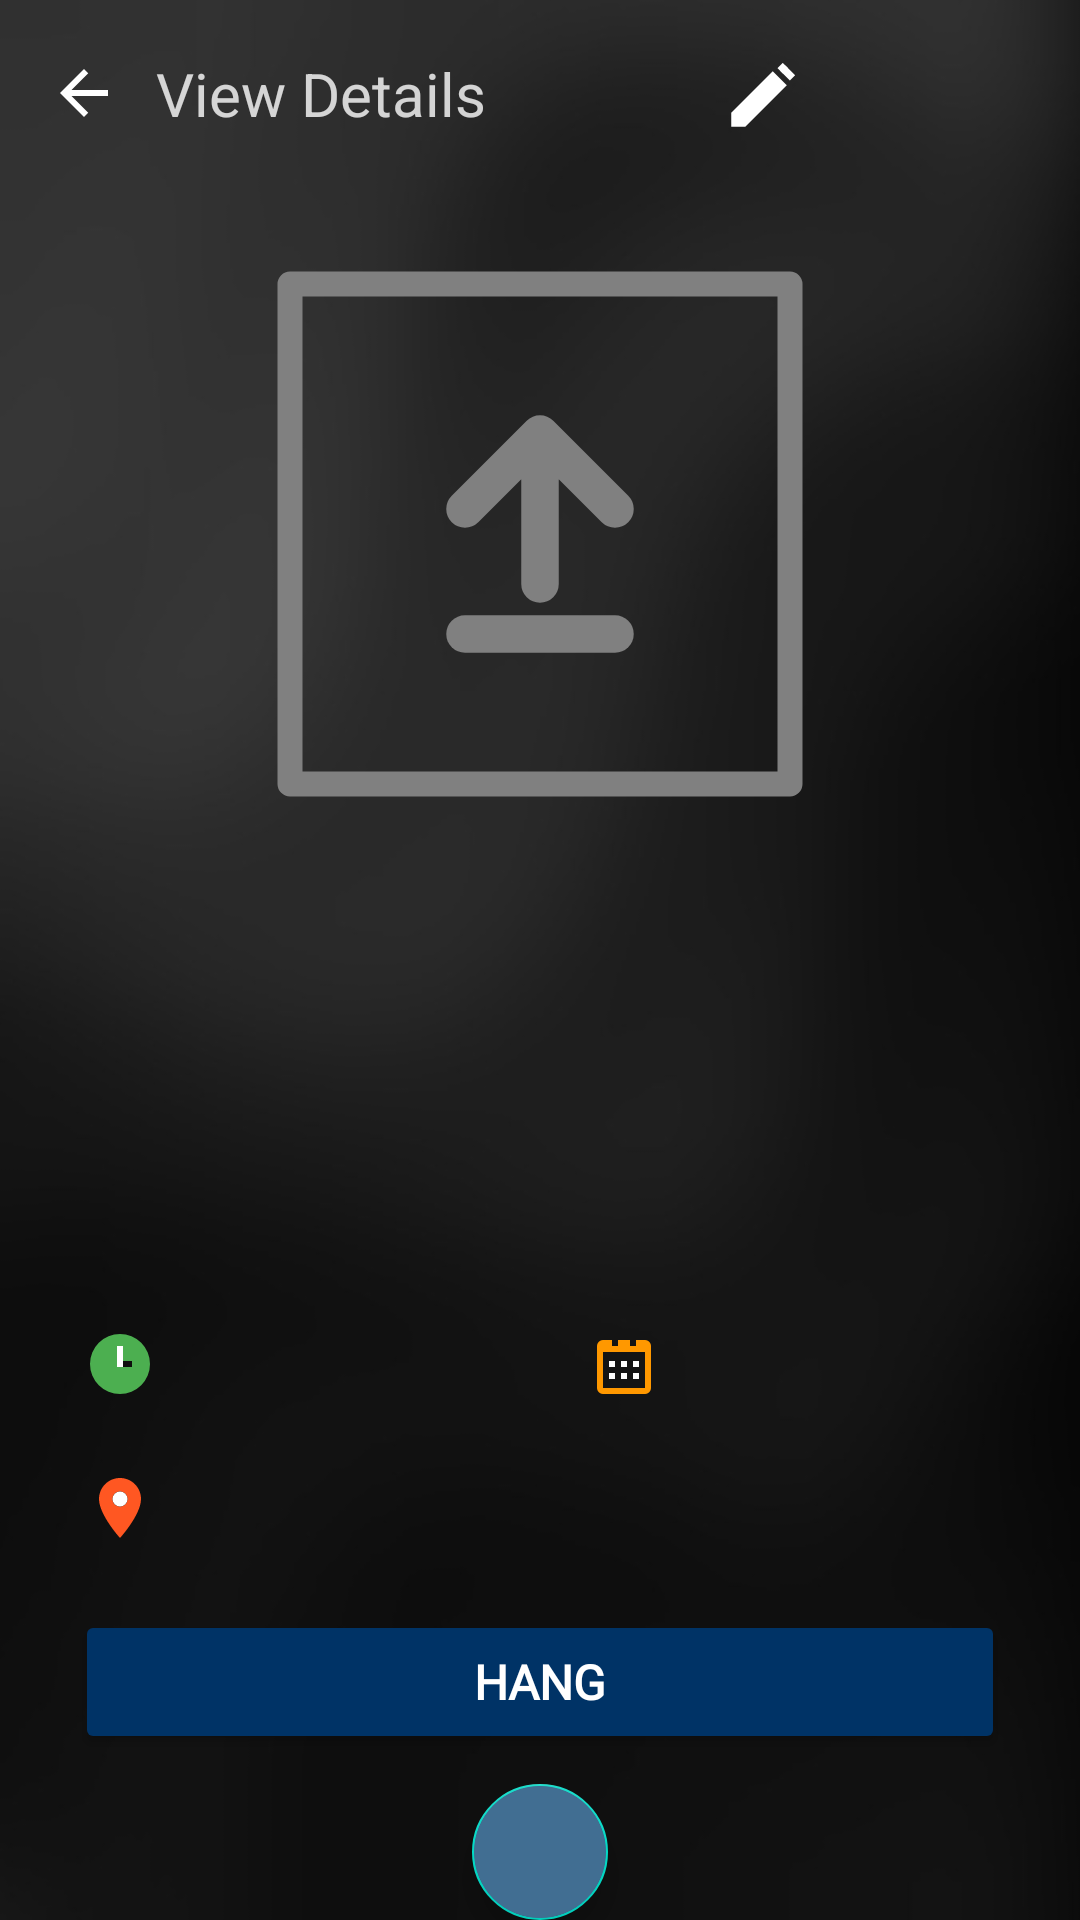

Icon click points for this 1080×1920 phone screenshot, format (x,y):
Back Button: (84,93)
edit: (763,95)
